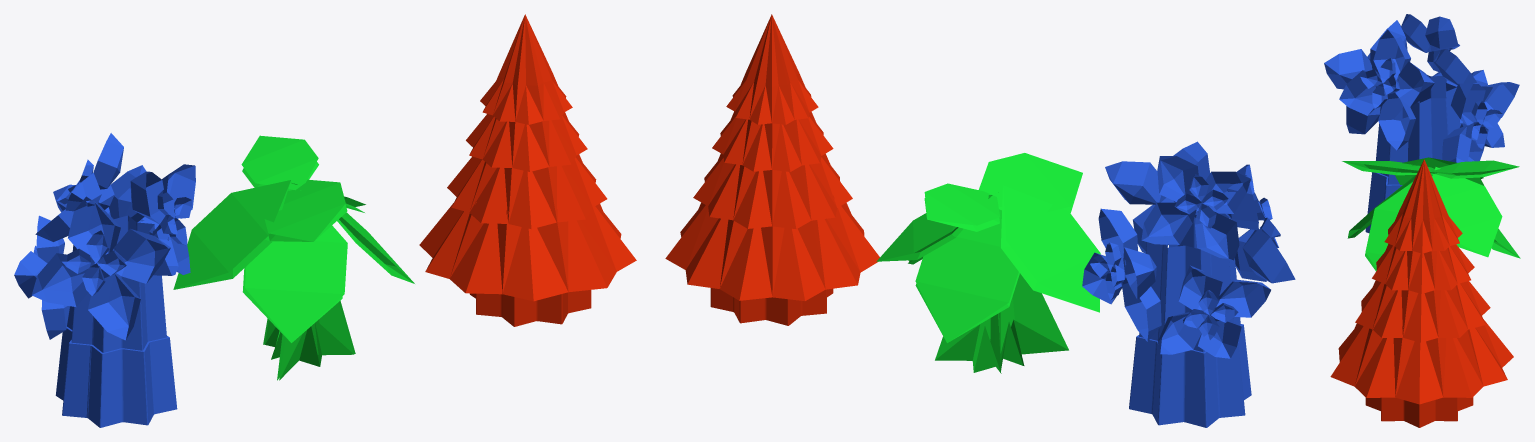
Rendered from Arbres_separer.fbx.
3 renders of one model, left to right at view 1: azimuth 30°, elevation 25°; view 2: azimuth 150°, elevation 25°; view 3: azimuth 270°, elevation 25°, orthographic. The views are drawn at different scales.
Visible parts, largest first — view 1: sapin.feuille, chene.feuille, arbre fleur feuille, arbre fleur, chene, sapin; view 2: sapin.feuille, arbre fleur feuille, chene.feuille, arbre fleur, chene, sapin; view 3: sapin.feuille, arbre fleur feuille, chene.feuille, arbre fleur, sapin.
Boxes of the visible parts, left/top/right/bottom form: sapin.feuille: left=419, top=14, right=636, bottom=301; chene.feuille: left=173, top=135, right=414, bottom=342; arbre fleur feuille: left=14, top=133, right=195, bottom=340; arbre fleur: left=55, top=215, right=177, bottom=427; chene: left=263, top=301, right=355, bottom=380; sapin: left=469, top=290, right=591, bottom=326; sapin.feuille: left=665, top=14, right=879, bottom=300; arbre fleur feuille: left=1082, top=141, right=1295, bottom=358; chene.feuille: left=876, top=153, right=1100, bottom=342; arbre fleur: left=1129, top=217, right=1251, bottom=427; chene: left=935, top=273, right=1068, bottom=373; sapin: left=710, top=288, right=833, bottom=325; sapin.feuille: left=1330, top=159, right=1513, bottom=404; arbre fleur feuille: left=1324, top=14, right=1519, bottom=162; chene.feuille: left=1342, top=157, right=1520, bottom=271; arbre fleur: left=1365, top=75, right=1460, bottom=232; sapin: left=1365, top=397, right=1473, bottom=427.
Size of the model in its own units: 1092 by 498 by 362.
